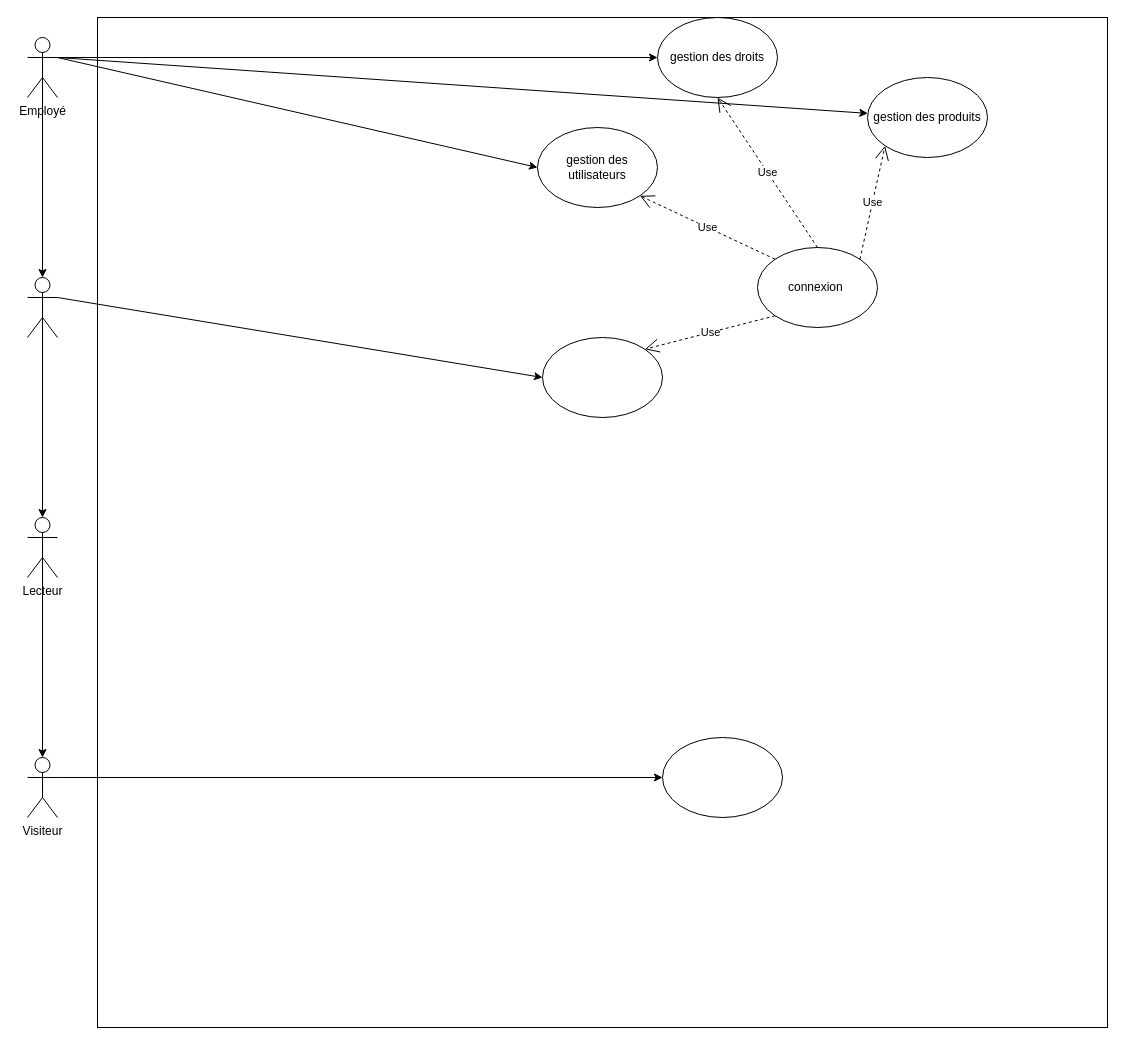
The diagram is 1125 pixels wide and 1045 high, and some of its shapes have lost their labels. The shapes that lost their labels are listed below. From the top down, each one's centre as x and y in pixels, then its label:
the point at 42,307: Bénévole
the point at 602,377: gestion des prêt
the point at 722,777: consulter les produits
